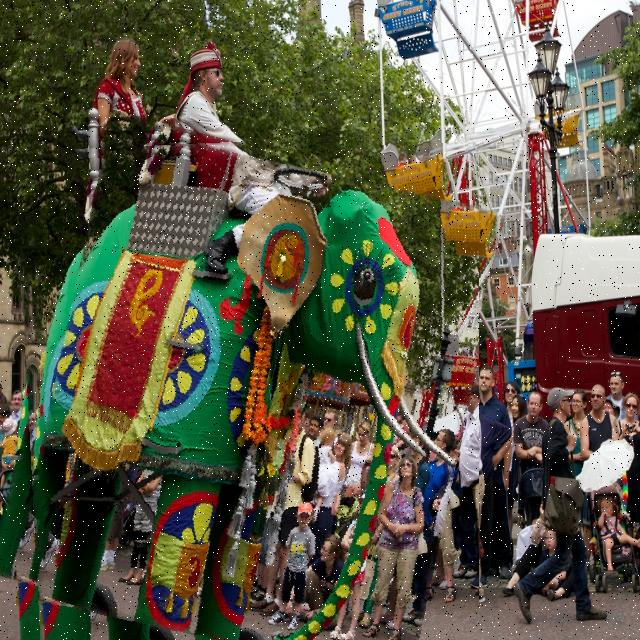elephant: (15, 131, 479, 640)
